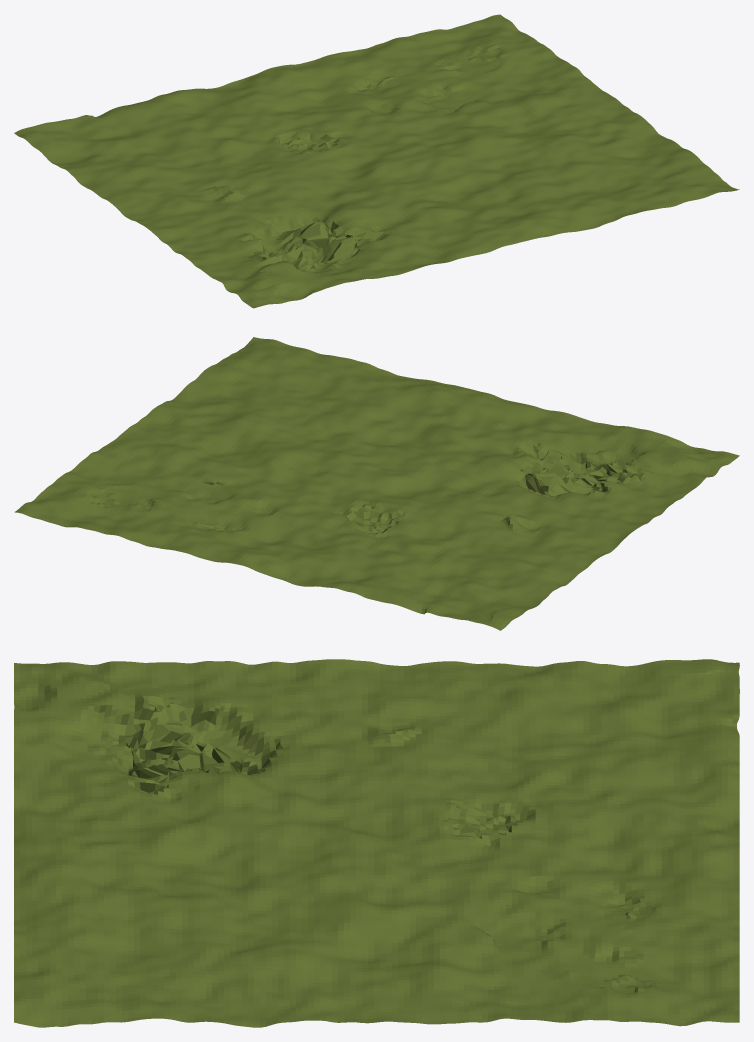
The model's file is GrassGround2.fbx.
3 views of the same model, one above another, from view 1: azimuth 30°, elevation 25°; view 2: azimuth 150°, elevation 25°; view 3: azimuth 270°, elevation 25° (orthographic). The views are drawn at different scales.
Parts seen in each view (by area): view 1: Grass Ground 2; view 2: Grass Ground 2; view 3: Grass Ground 2.
Part boxes in pixels (x1=…): Grass Ground 2: x1=14, y1=14, x2=739, y2=308; Grass Ground 2: x1=14, y1=337, x2=739, y2=630; Grass Ground 2: x1=14, y1=659, x2=739, y2=1027.
Size of the model in its own units: 9244 by 449 by 7871.
